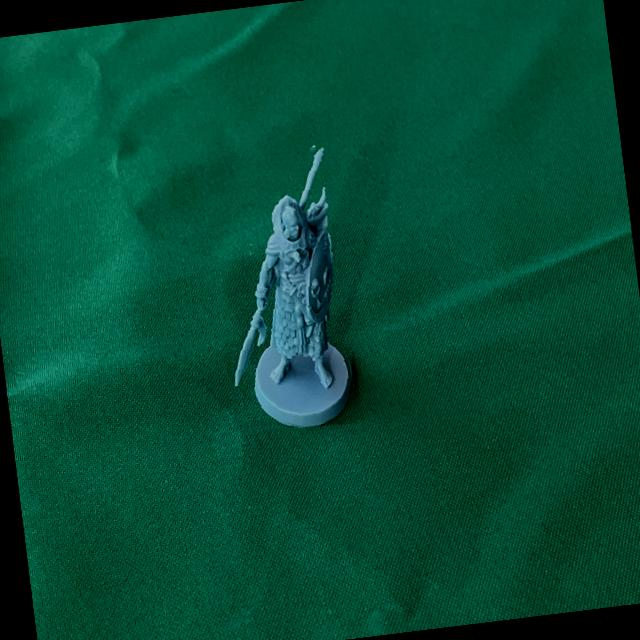isis_follower: (203, 140, 366, 436)
